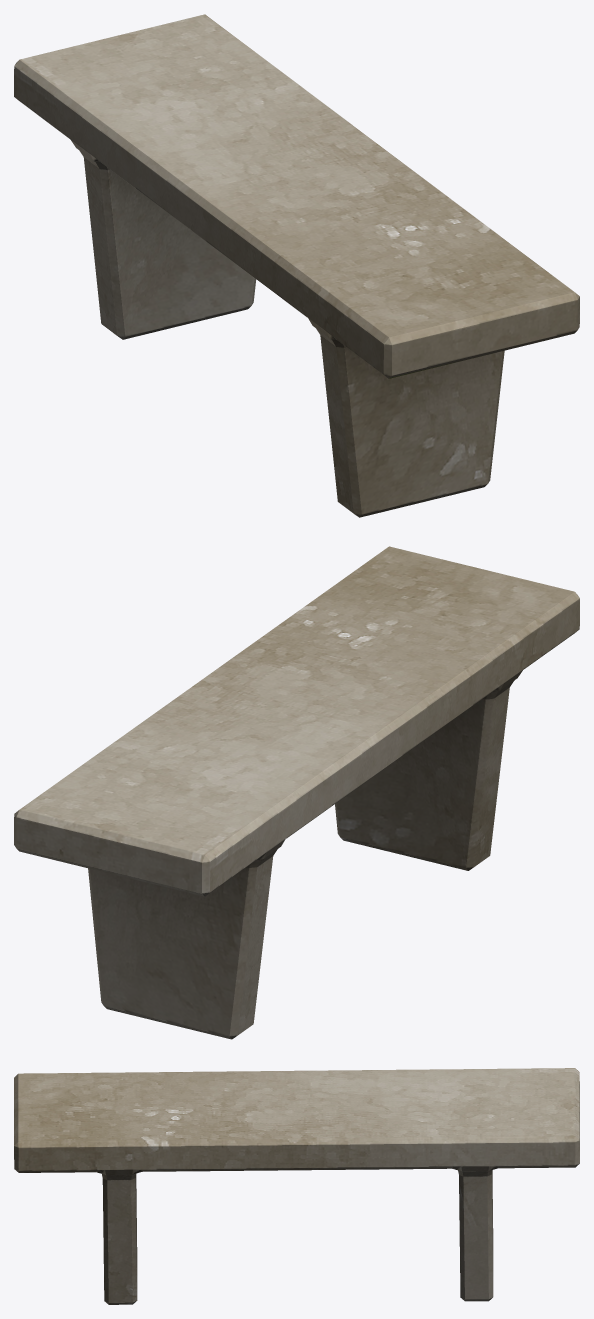
Rendered from banco.fbx.
The picture shows the model from 3 angles, top to bottom: view 1: azimuth 30°, elevation 25°; view 2: azimuth 150°, elevation 25°; view 3: azimuth 270°, elevation 25°; orthographic projection. The views are drawn at different scales.
Parts seen in each view (by area): view 1: bench01; view 2: bench01; view 3: bench01.
Boxes of the visible parts, x1,y1,x2,y2 form: bench01: (14,14,579,517); bench01: (14,546,579,1039); bench01: (14,1068,579,1304).
Bounding box in the file's own units: 46.14 × 53.7 × 153.
